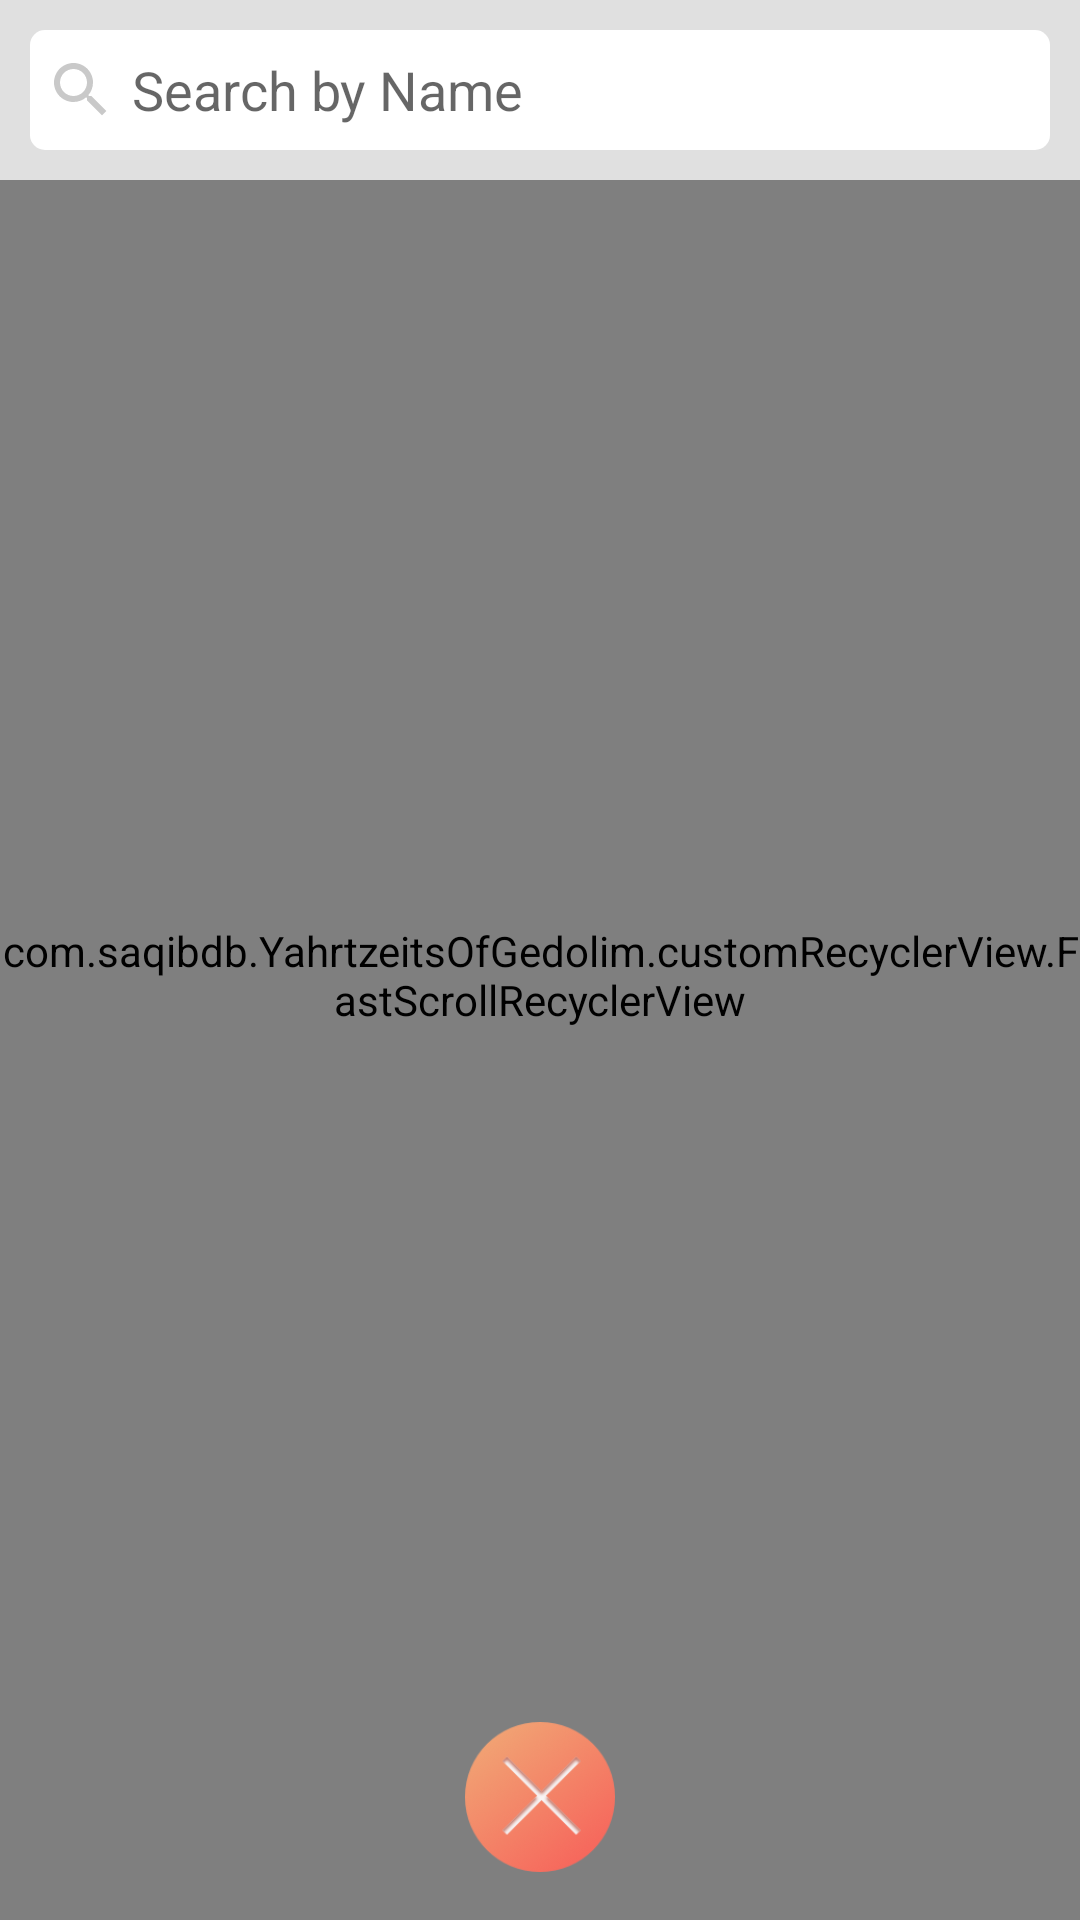

Where icons sit on this 1080w x 1920h app screen, as {"x1": x1, "y1": y1, "x2": x2, "y2": y2}:
close: {"x1": 465, "y1": 1722, "x2": 615, "y2": 1872}
